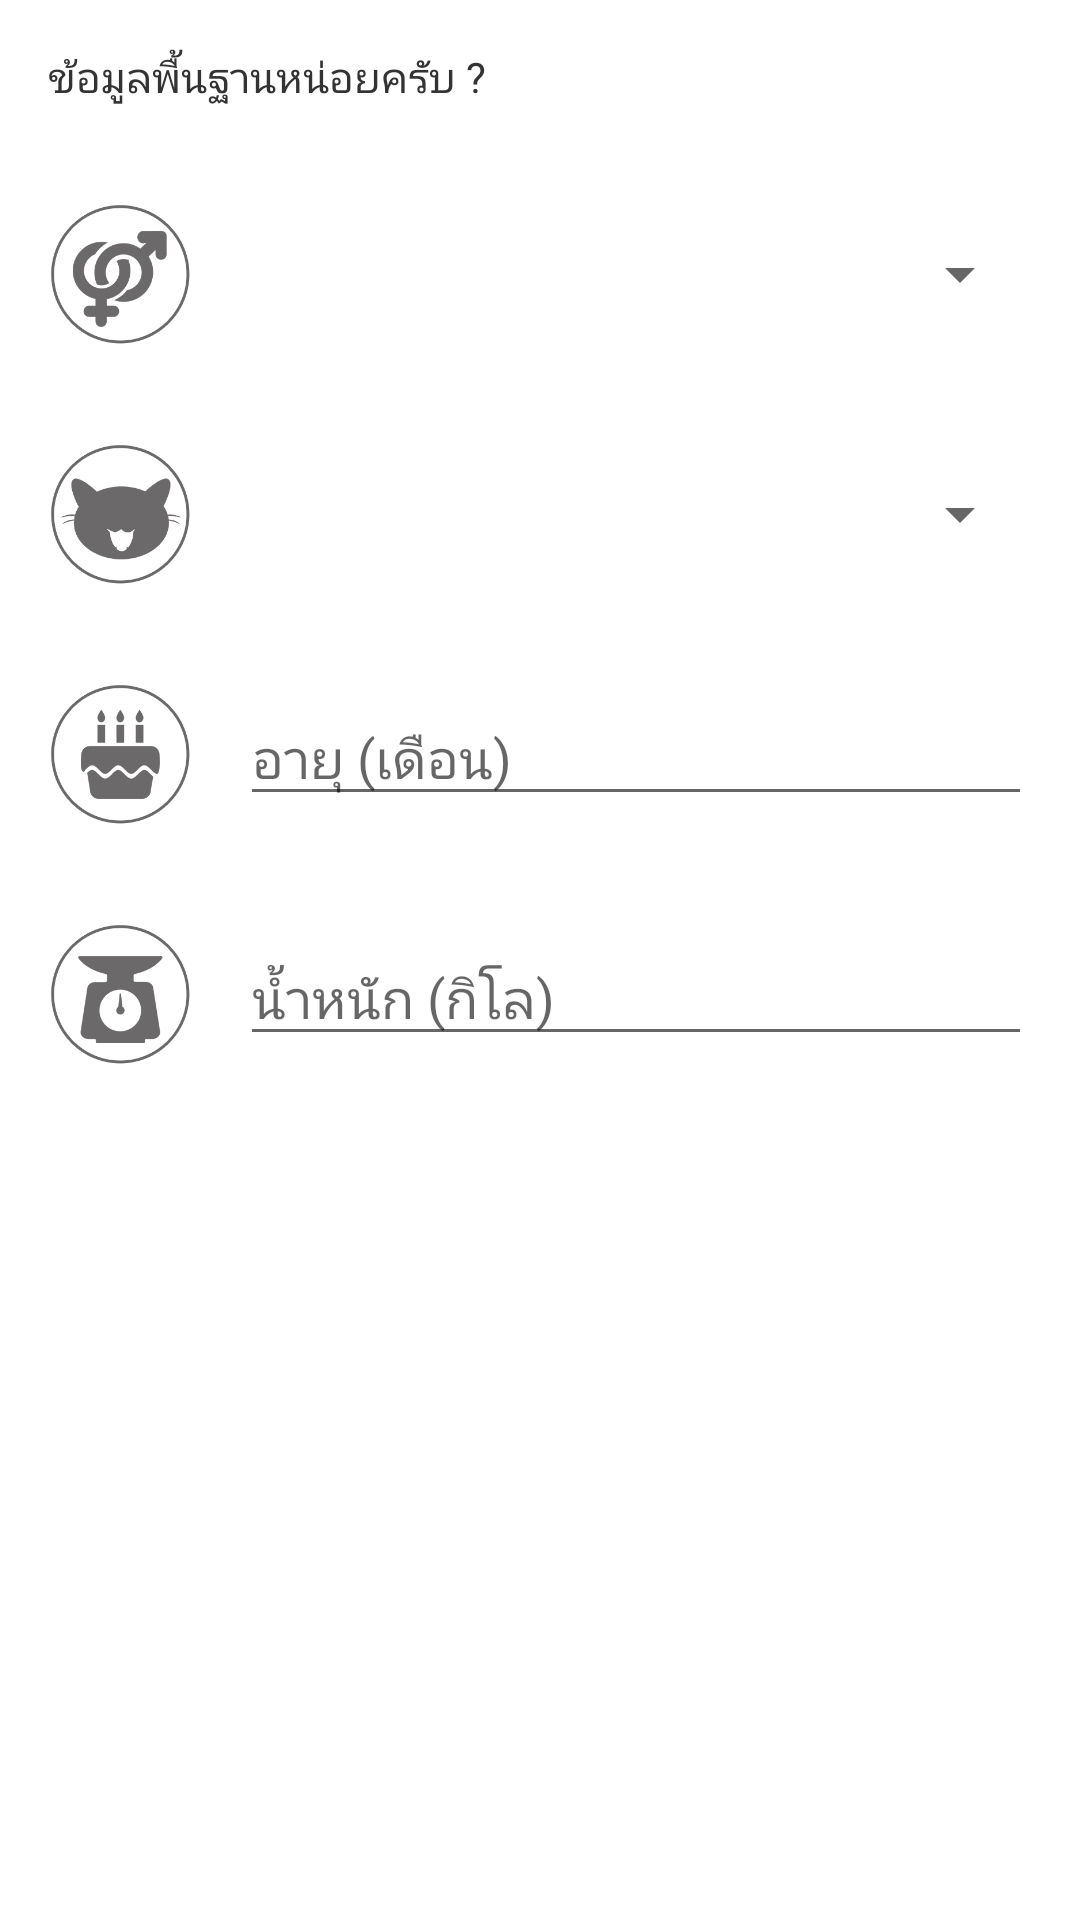

Icon click points for this 1080*1920 phone screenshot, format [x,y]:
age: [120,754]
sex: [120,274]
type: [120,514]
weight: [120,994]
